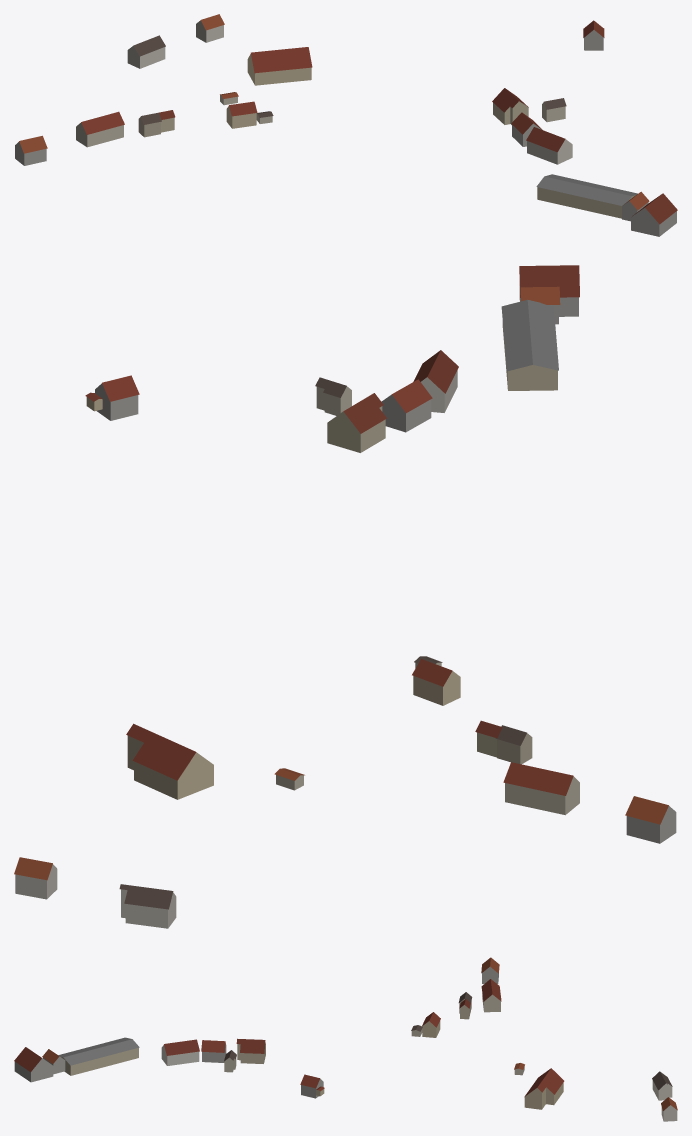
The picture shows the model from 3 angles, top to bottom: view 1: azimuth 30°, elevation 25°; view 2: azimuth 150°, elevation 25°; view 3: azimuth 270°, elevation 25°; orthographic projection. The views are drawn at different scales.
Visible parts, largest first — view 1: buildings; view 2: buildings; view 3: buildings.
Part boxes in pixels (x1=…): buildings: x1=15, y1=14, x2=677, y2=236; buildings: x1=14, y1=265, x2=676, y2=928; buildings: x1=14, y1=957, x2=677, y2=1121.
Size of the model in its own units: 230 by 61.99 by 335.
